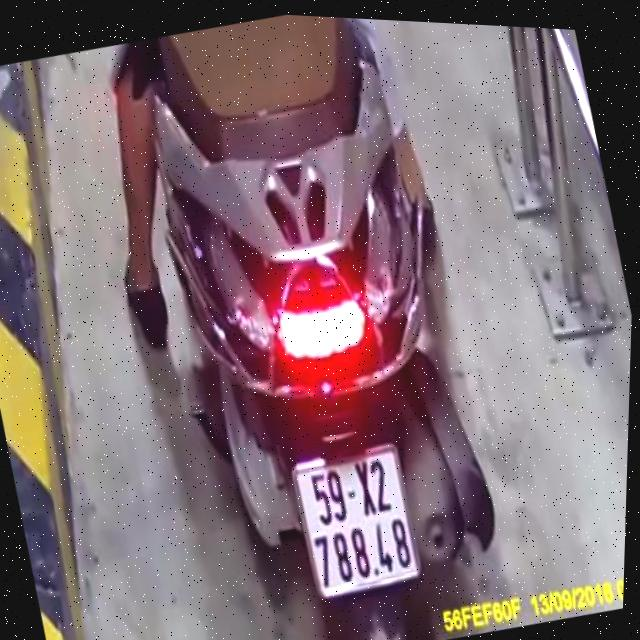motorcycle: (95, 6, 540, 640)
plate: (277, 432, 430, 607)
